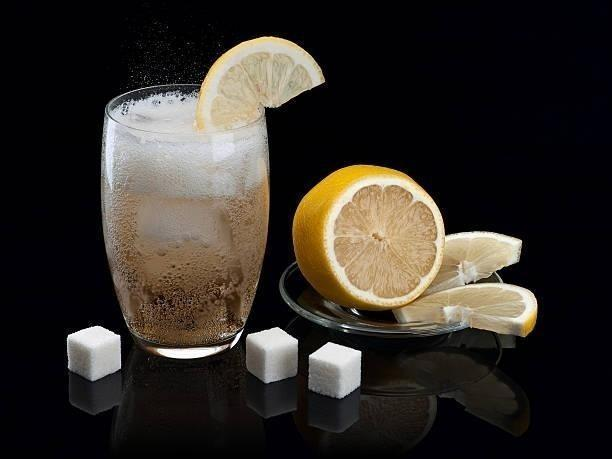glass-normal: (100, 82, 272, 360)
